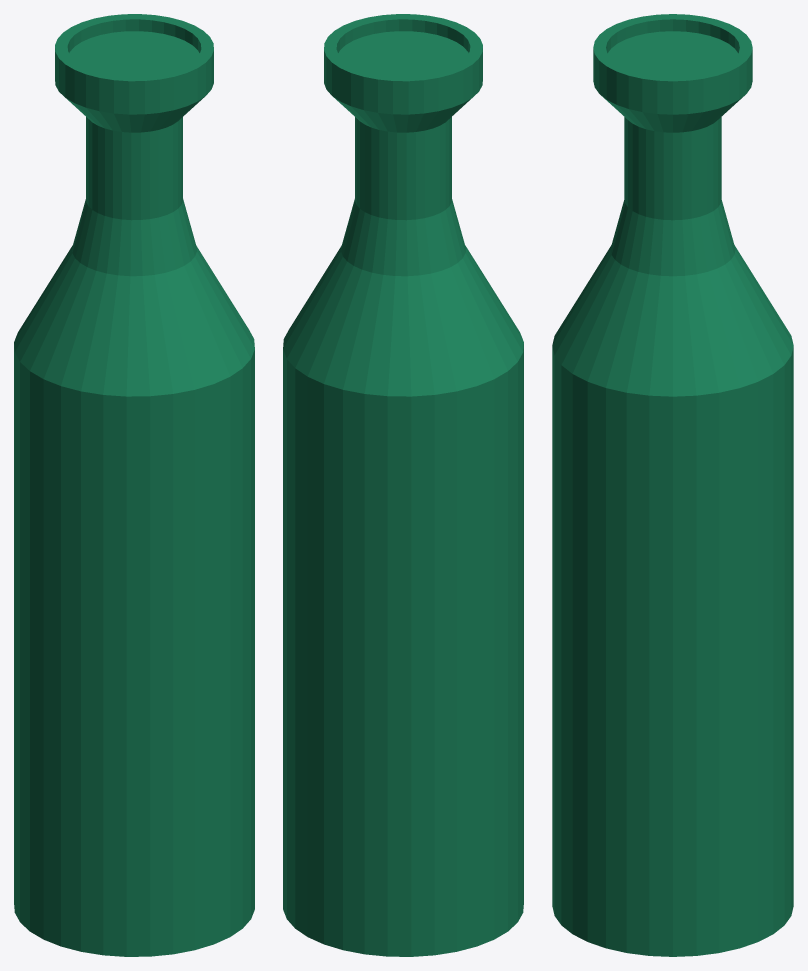
File: Bottle.fbx
The picture shows the model from 3 angles, left to right: view 1: azimuth 30°, elevation 25°; view 2: azimuth 150°, elevation 25°; view 3: azimuth 270°, elevation 25°; orthographic projection.
Parts seen in each view (by area): view 1: Bottle; view 2: Bottle; view 3: Bottle.
Part boxes in pixels (bbox=[...]): Bottle: bbox=[14, 14, 254, 956]; Bottle: bbox=[283, 14, 523, 956]; Bottle: bbox=[552, 14, 793, 956].
Bounding box in the file's own units: 200 × 784 × 200.
